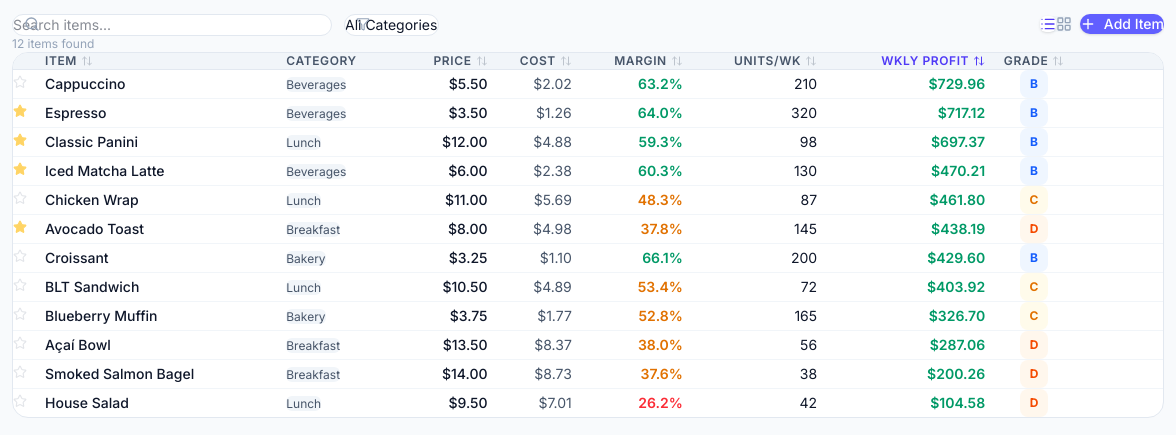
Test: MenuItems › filters by search
Type "Espresso" into the field with placeholder "Search items..." at (172, 25), box top-left (12, 14), bottom-right (332, 36)
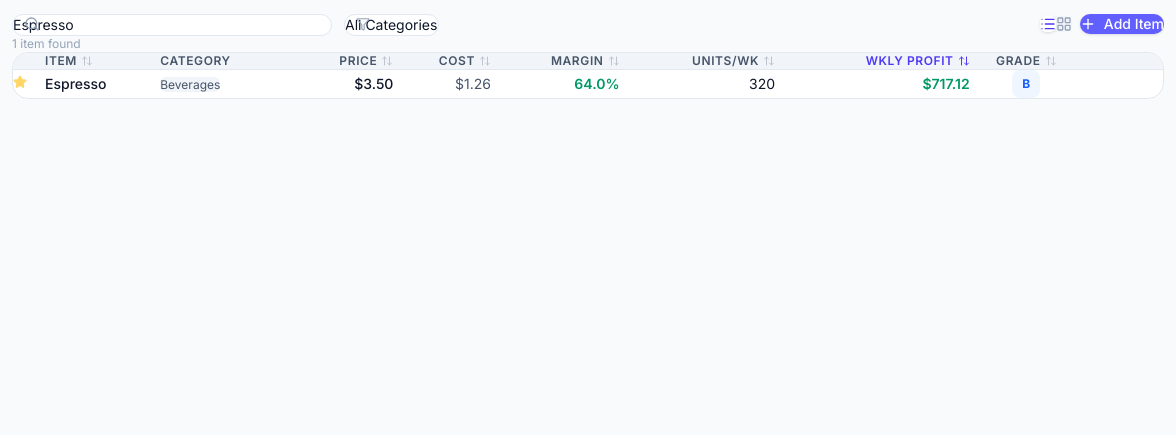
Expected: the text "1 item found" is shown, top-left (12, 36), bottom-right (81, 51)
